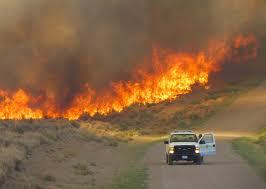fire: (127, 34, 253, 108), (1, 79, 131, 121)
yanwu: (1, 0, 266, 90)
